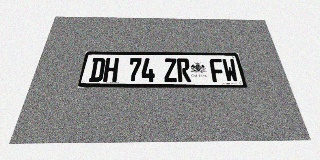4: (141, 58, 155, 82)
7: (127, 58, 142, 82)
D: (88, 58, 106, 82)
F: (209, 59, 226, 82)
H: (103, 58, 119, 82)
R: (177, 58, 191, 82)
W: (222, 59, 239, 82)
Z: (164, 58, 178, 82)
